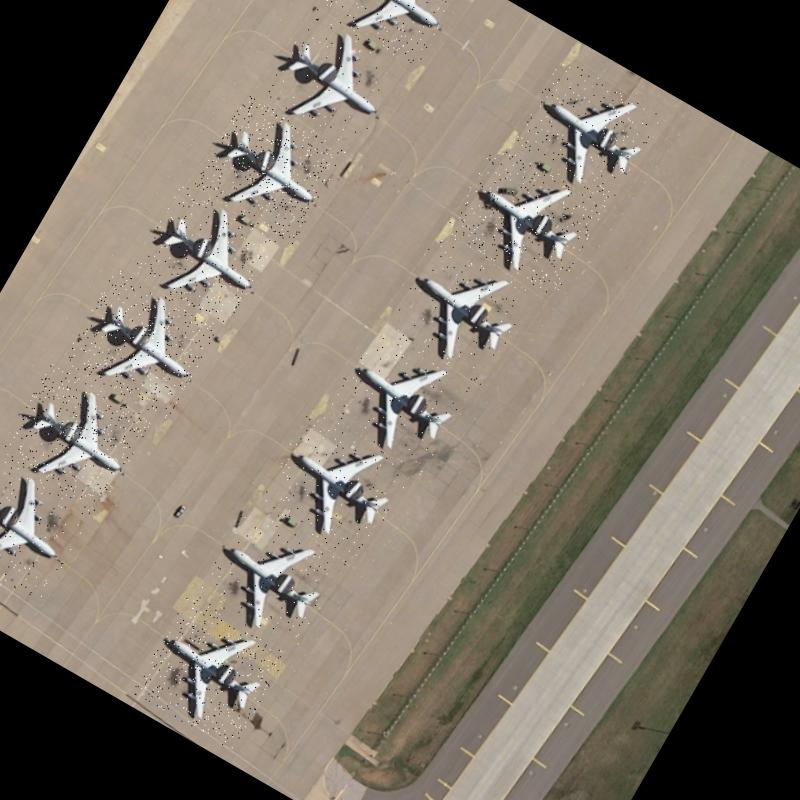A7: (444, 143, 606, 298), (320, 322, 478, 477), (192, 503, 349, 658), (62, 268, 220, 422), (132, 596, 288, 751), (254, 412, 412, 564), (380, 234, 536, 386), (0, 362, 153, 514), (193, 94, 346, 245), (510, 57, 662, 206), (258, 8, 406, 160), (130, 183, 278, 328), (0, 448, 95, 604), (308, 0, 468, 70)
